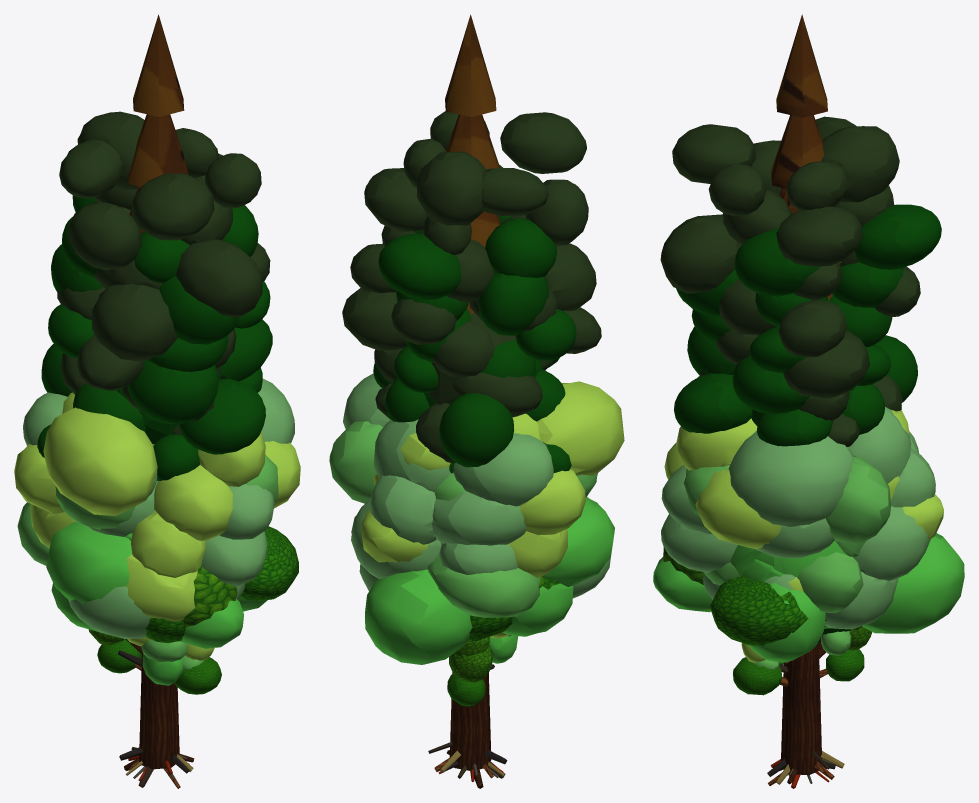
File: Forest.glb
3 renders of one model, left to right at view 1: azimuth 30°, elevation 25°; view 2: azimuth 150°, elevation 25°; view 3: azimuth 270°, elevation 25°, orthographic.
Visible parts, largest first — view 1: tree8_mesh, tree1_mesh, tree7_mesh, tree2_mesh, tree3_mesh, tree9_mesh, tree4_mesh, tree5_mesh, tree6_mesh; view 2: tree8_mesh, tree1_mesh, tree2_mesh, tree7_mesh, tree3_mesh, tree6_mesh, tree9_mesh, tree5_mesh, tree4_mesh; view 3: tree8_mesh, tree1_mesh, tree2_mesh, tree3_mesh, tree6_mesh, tree7_mesh, tree4_mesh, tree9_mesh, tree5_mesh.
Boxes of the visible parts, x1,y1,x2,y2 form: tree8_mesh: [57, 111, 270, 779]; tree1_mesh: [37, 195, 272, 780]; tree7_mesh: [14, 392, 300, 775]; tree2_mesh: [23, 378, 294, 773]; tree3_mesh: [46, 521, 267, 749]; tree9_mesh: [128, 14, 188, 232]; tree4_mesh: [97, 526, 298, 788]; tree5_mesh: [88, 566, 237, 770]; tree6_mesh: [17, 444, 278, 787]; tree8_mesh: [342, 111, 601, 777]; tree1_mesh: [373, 215, 576, 781]; tree2_mesh: [343, 373, 610, 770]; tree7_mesh: [361, 381, 624, 776]; tree3_mesh: [365, 497, 614, 778]; tree6_mesh: [329, 421, 597, 778]; tree9_mesh: [445, 14, 500, 314]; tree5_mesh: [447, 576, 544, 788]; tree4_mesh: [434, 577, 560, 778]; tree8_mesh: [660, 116, 920, 783]; tree1_mesh: [674, 204, 941, 788]; tree2_mesh: [661, 404, 935, 776]; tree3_mesh: [653, 533, 964, 761]; tree6_mesh: [683, 456, 890, 769]; tree7_mesh: [664, 375, 943, 784]; tree4_mesh: [710, 576, 864, 785]; tree9_mesh: [771, 14, 841, 300]; tree5_mesh: [663, 547, 872, 784].
Size of what is drawn, in the model's own units: 2.65 by 7.75 by 2.84.
20 materials, 8 textured.
